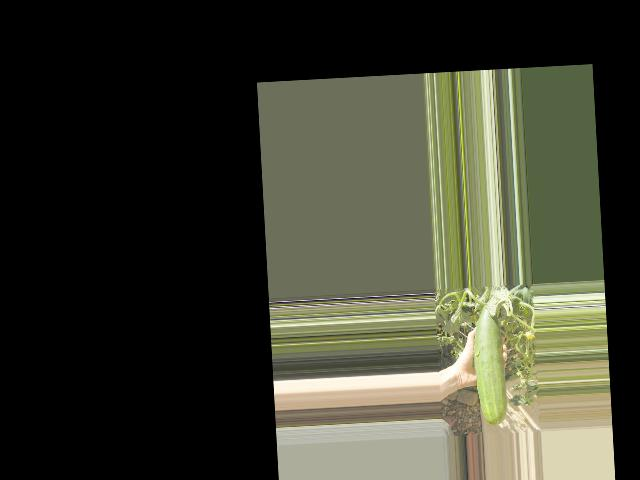cucumber: (471, 302, 508, 426)
